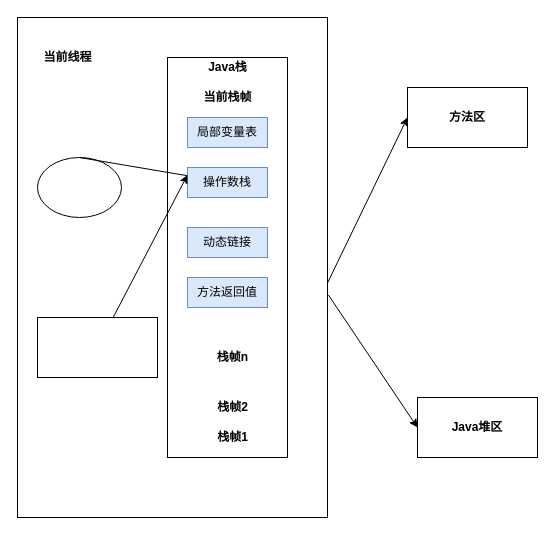
This 555x535 diagram has some shape labels left out. Each missing label, with the centre of its shape:
PC寄存器: point (97, 347)
执行引擎: point (79, 187)
